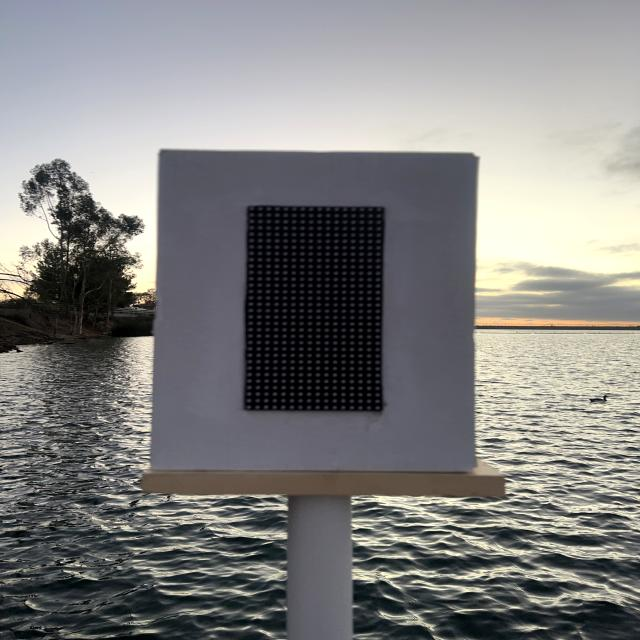led: (217, 188, 419, 434)
